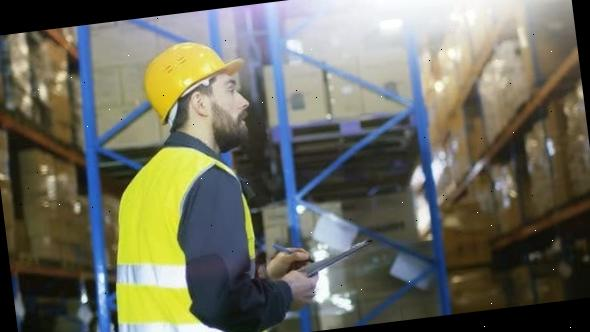helmet: (139, 36, 252, 130)
wear: (101, 143, 271, 332)
